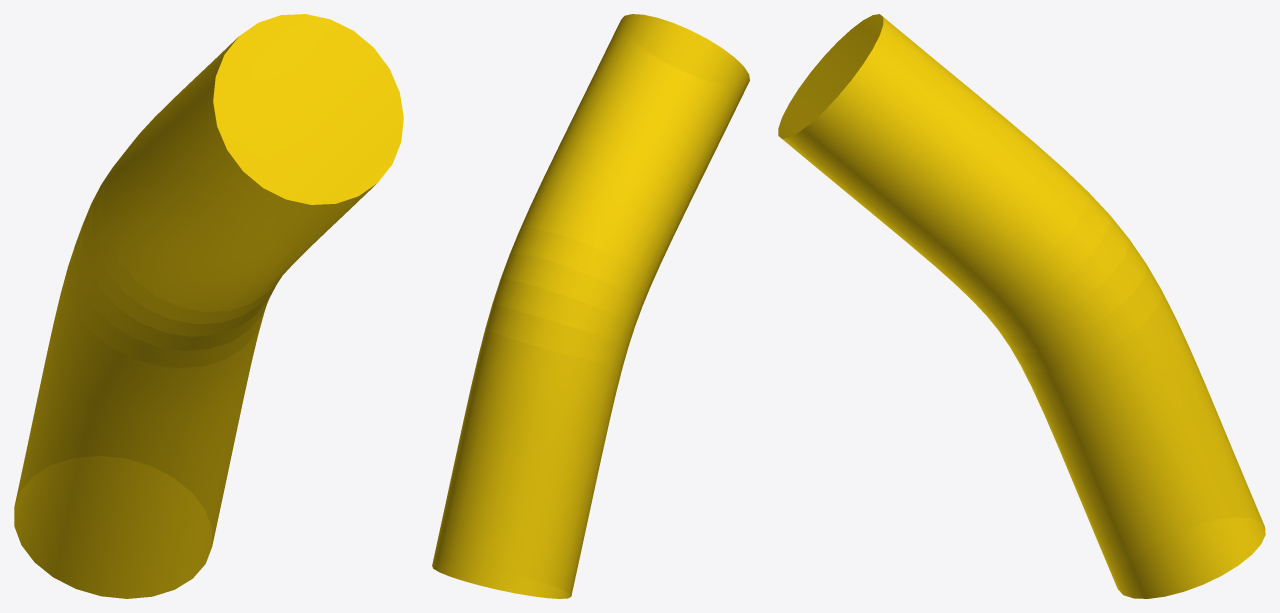
Rendered from Event_421115418_track_98.fbx.
3 views of the same model, side by side, from view 1: azimuth 30°, elevation 25°; view 2: azimuth 150°, elevation 25°; view 3: azimuth 270°, elevation 25° (orthographic). The views are drawn at different scales.
Parts seen in each view (by area): view 1: Model; view 2: Model; view 3: Model.
Boxes of the visible parts, bbox=[...] form: Model: bbox=[14, 14, 403, 598]; Model: bbox=[432, 14, 749, 598]; Model: bbox=[778, 14, 1265, 598].
Size of the model in its own units: 0.0472 by 0.1518 by 0.1219.
